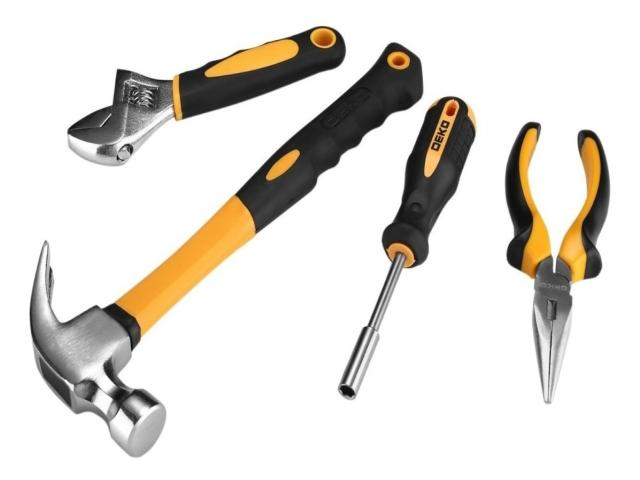Adjustable spanner: (68, 27, 345, 166)
Hammer: (30, 45, 422, 456)
Needle-nose pliers: (506, 122, 610, 404)
Screwdriver: (339, 96, 476, 397)
